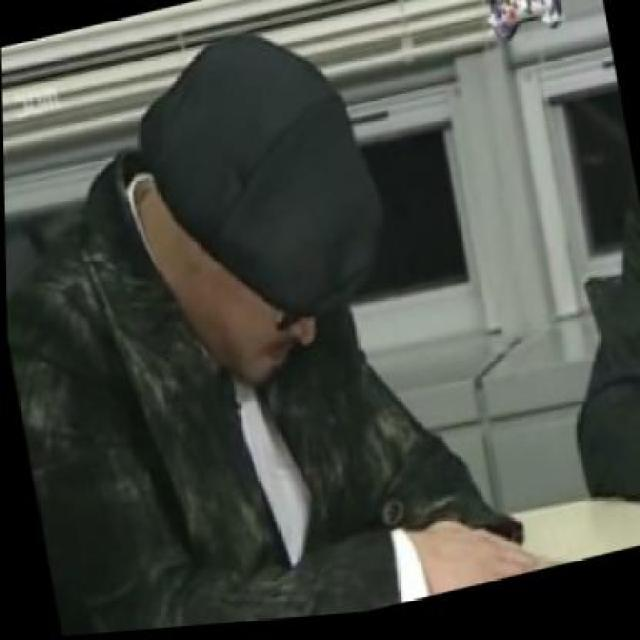hat: (120, 10, 406, 365)
